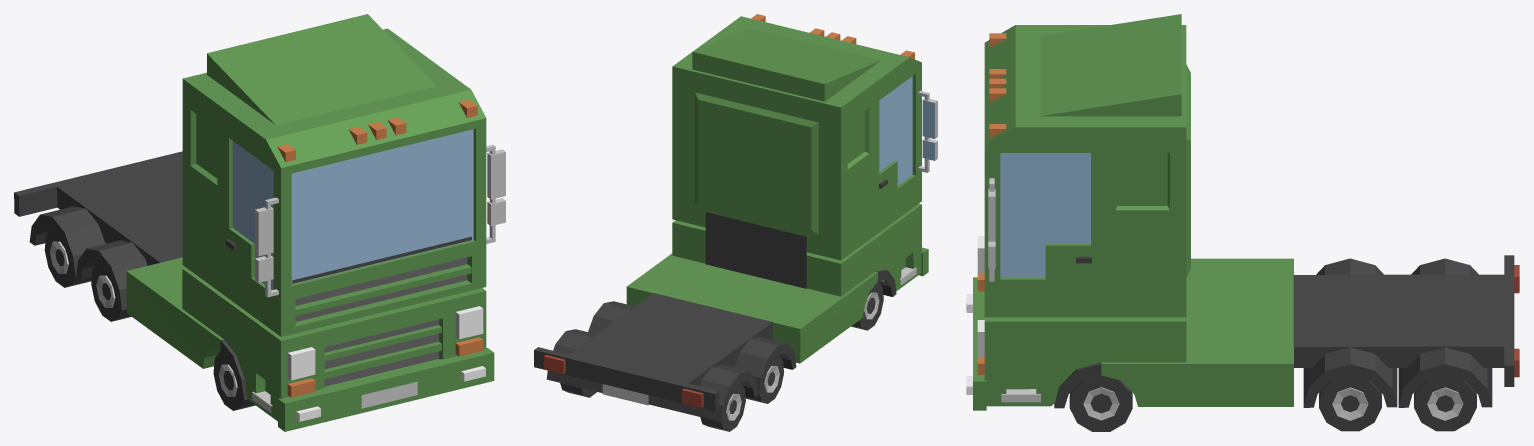
File: transport_truck_010.fbx
The picture shows the model from 3 angles, left to right: view 1: azimuth 30°, elevation 25°; view 2: azimuth 150°, elevation 25°; view 3: azimuth 270°, elevation 25°; orthographic projection. The views are drawn at different scales.
Parts seen in each view (by area): view 1: transport_truck_010; view 2: transport_truck_010; view 3: transport_truck_010.
Part boxes in pixels (x1,y1,x2,y2): transport_truck_010: (14, 14, 505, 431); transport_truck_010: (534, 14, 937, 431); transport_truck_010: (966, 14, 1519, 431).
Bounding box in the file's own units: 209 × 259 × 395.
